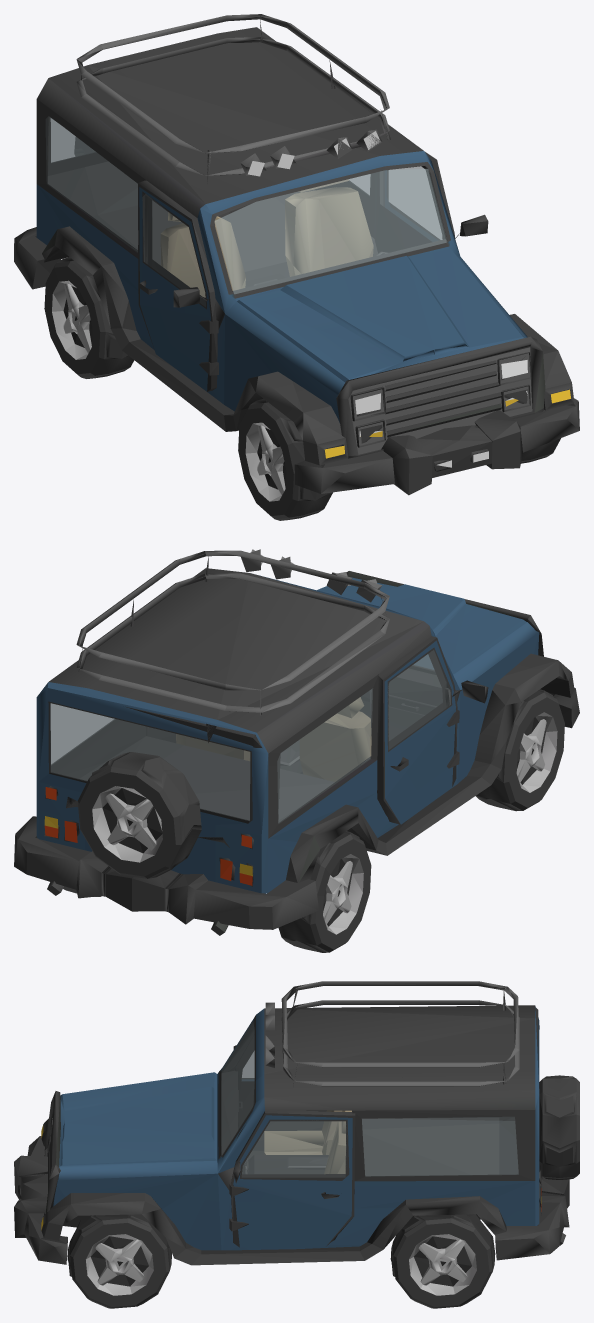
Rendered from car.glb.
The picture shows the model from 3 angles, top to bottom: view 1: azimuth 30°, elevation 25°; view 2: azimuth 150°, elevation 25°; view 3: azimuth 270°, elevation 25°; orthographic projection. The views are drawn at different scales.
Visible parts, largest first — view 1: body/Especial Car_5NL, door/right, wheel/front/right, wheel/rear/right, door/left; view 2: body/Especial Car_5NL, door/right, body/Especial Car_5 Rear Tire, wheel/rear/right, wheel/front/right, body/Especial Car_5 Interior Door; view 3: body/Especial Car_5NL, door/left, wheel/rear/left, wheel/front/left, body/Especial Car_5 Rear Tire, door/right.
Boxes of the visible parts, bbox=[...] form: body/Especial Car_5NL: bbox=[14, 14, 579, 495]; door/right: bbox=[138, 180, 218, 391]; wheel/front/right: bbox=[238, 398, 332, 520]; wheel/rear/right: bbox=[44, 257, 134, 378]; door/left: bbox=[374, 152, 488, 253]; body/Especial Car_5NL: bbox=[14, 549, 579, 935]; door/right: bbox=[377, 636, 488, 824]; body/Especial Car_5 Rear Tire: bbox=[78, 752, 201, 878]; wheel/rear/right: bbox=[278, 831, 371, 952]; wheel/front/right: bbox=[476, 689, 564, 811]; body/Especial Car_5 Interior Door: bbox=[388, 695, 436, 715]; body/Especial Car_5NL: bbox=[14, 981, 569, 1265]; door/left: bbox=[229, 1110, 355, 1247]; wheel/rear/left: bbox=[390, 1214, 495, 1308]; wheel/front/left: bbox=[67, 1214, 171, 1308]; body/Especial Car_5 Rear Tire: bbox=[539, 1075, 579, 1179]; door/right: bbox=[233, 1034, 326, 1150].
Size of the model in its own units: 2.5 by 2.16 by 4.71.
2 materials, 2 textured.
